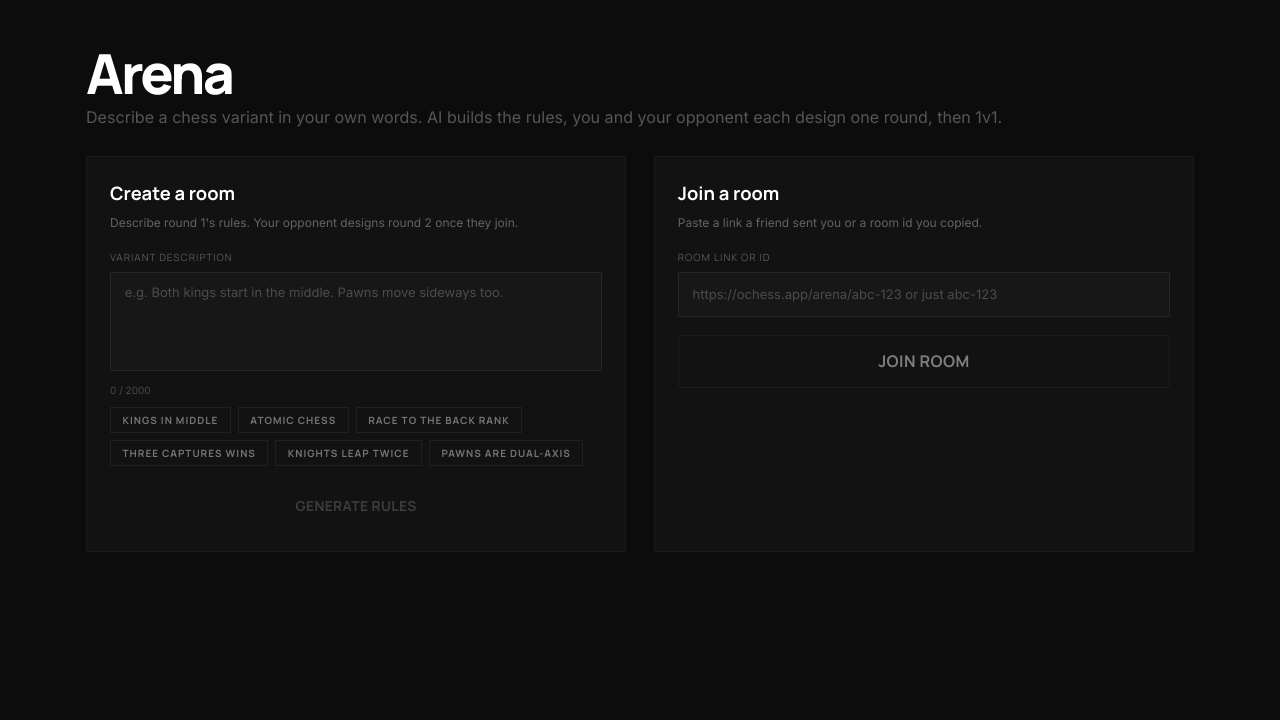
Test: ArenaPage › surfaces a rate-limit cooldown after generate fails with retryAfterSeconds
The image size is (1280, 720).
Replace the text in the text box with placeholder "Both kings start in the middle" with "knights leap twice": (356, 322) top-left (110, 272), bottom-right (602, 371)
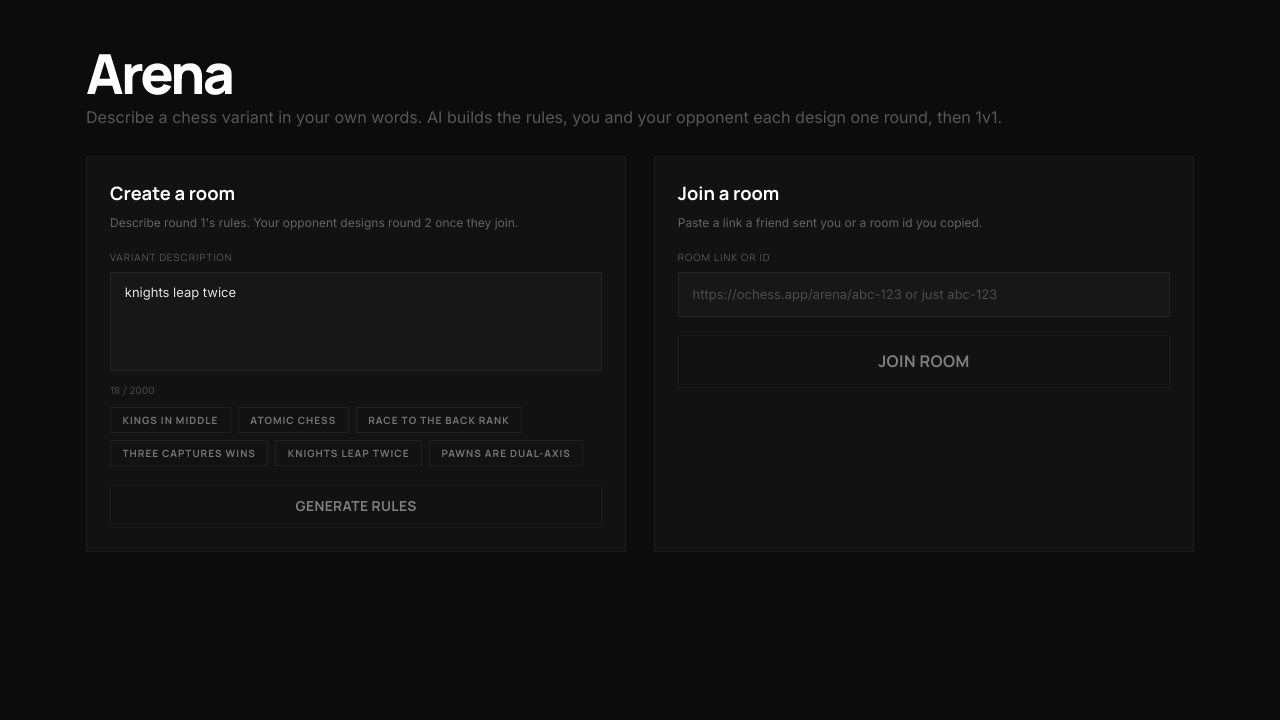
Click the button "Generate rules": (356, 506) top-left (110, 485), bottom-right (602, 528)
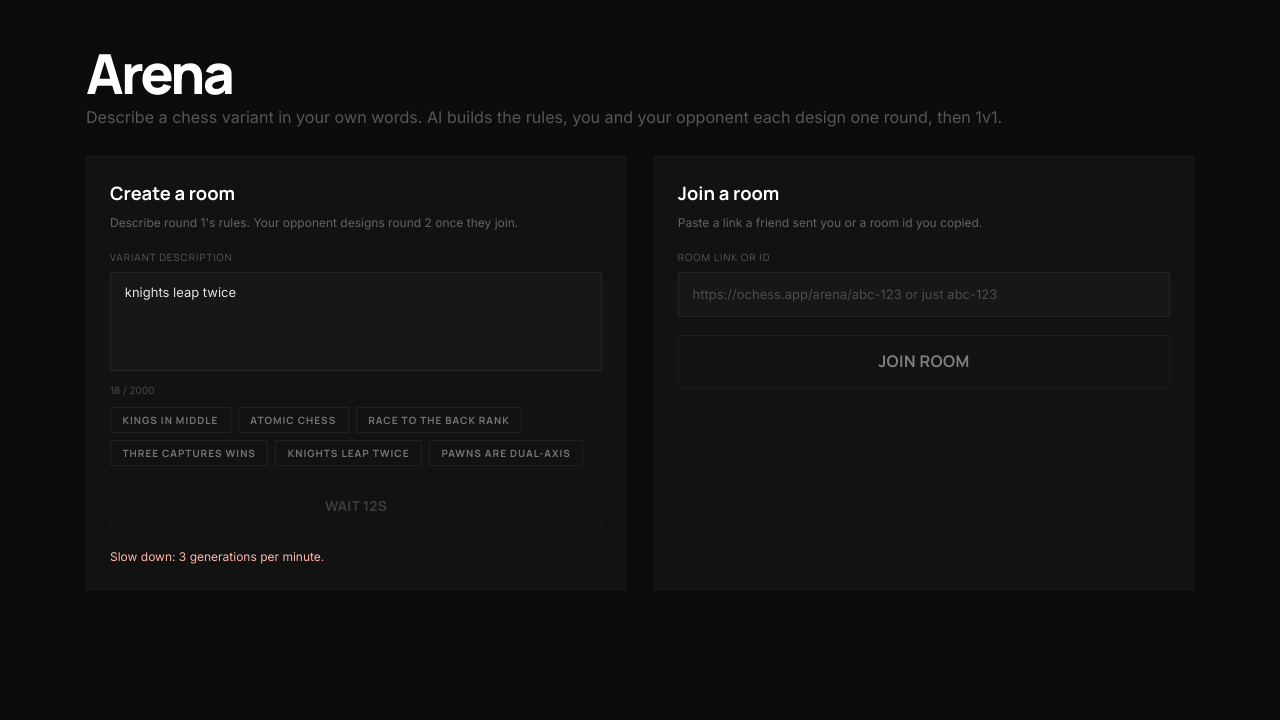
Expected: the button "Wait 12s" is shown, top-left (110, 485), bottom-right (602, 528)
Expected: the text "Slow down: 3 generations per minute." is shown, top-left (110, 549), bottom-right (324, 564)
